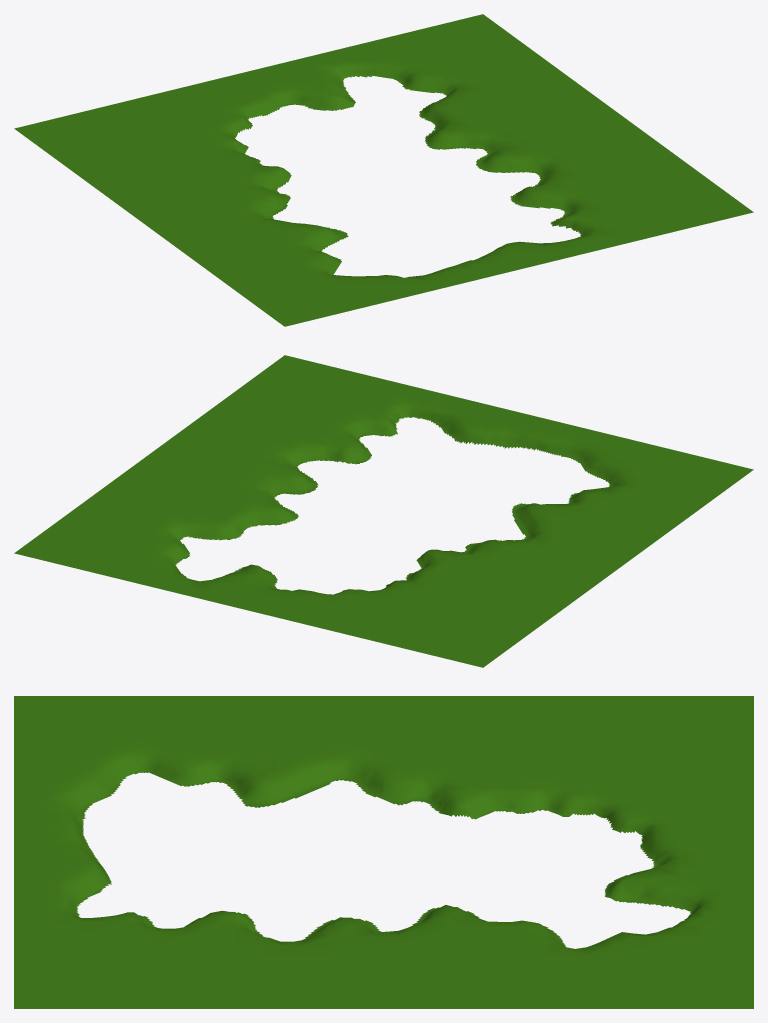
File: terrain_surface.glb
3 renders of one model, top to bottom at view 1: azimuth 30°, elevation 25°; view 2: azimuth 150°, elevation 25°; view 3: azimuth 270°, elevation 25°, orthographic. The views are drawn at different scales.
Parts seen in each view (by area): view 1: Grid; view 2: Grid; view 3: Grid.
Part boxes in pixels (x1,y1,x2,y2): Grid: (14,14,753,326); Grid: (14,355,753,667); Grid: (14,696,753,1008).
Bounding box in the file's own units: 598 × 13.1 × 598.
